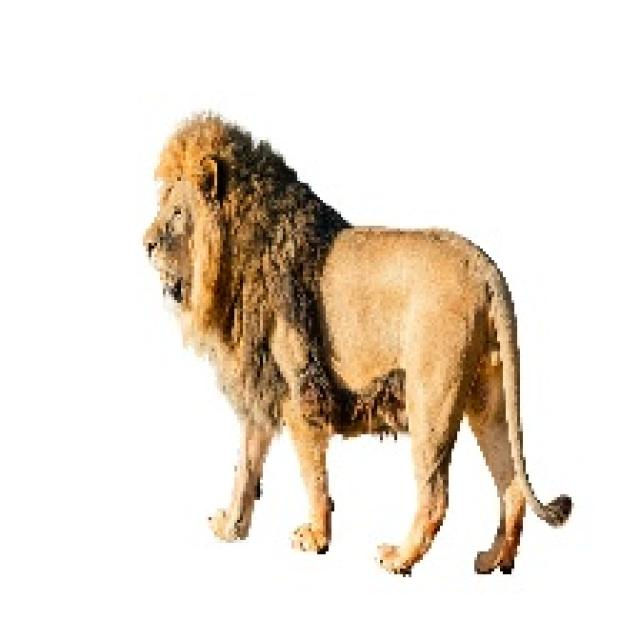bear: (97, 132, 543, 534)
